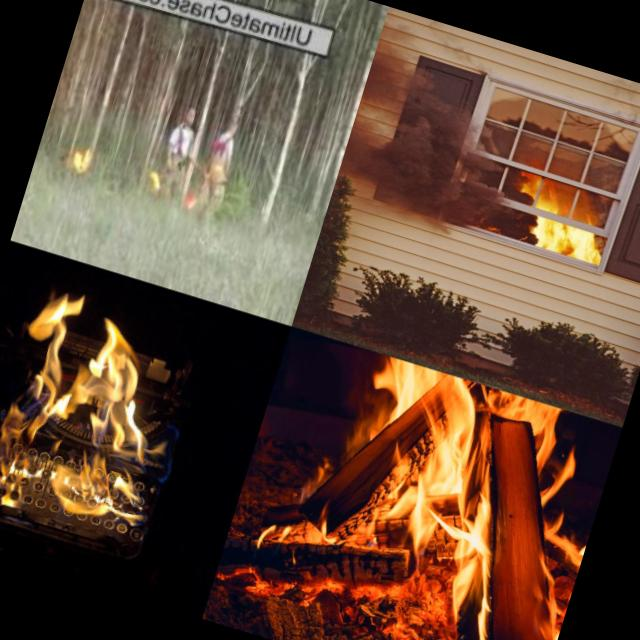fire: (288, 349, 622, 640), (0, 267, 215, 562), (509, 161, 619, 271), (66, 143, 96, 175), (142, 164, 168, 195)
smoke: (330, 114, 453, 230), (428, 144, 531, 254), (356, 65, 482, 148), (370, 12, 446, 84)
